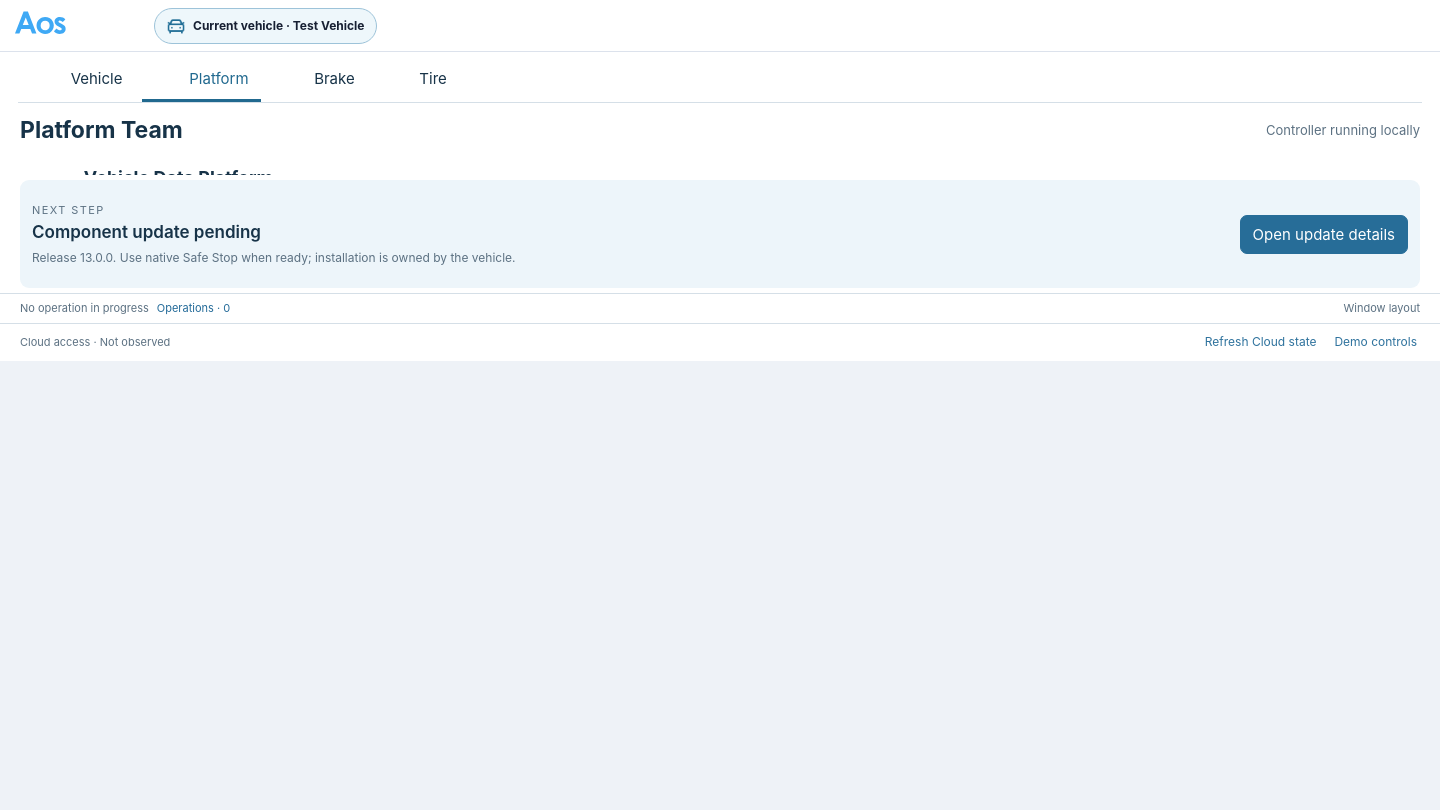
Scenario: a pending VDP on Platform opens update details, never navigates back to Platform
Step 1. Click the button "Open update details" → {"x": 1324, "y": 234}, box x1=1240 y1=215 x2=1408 y2=254
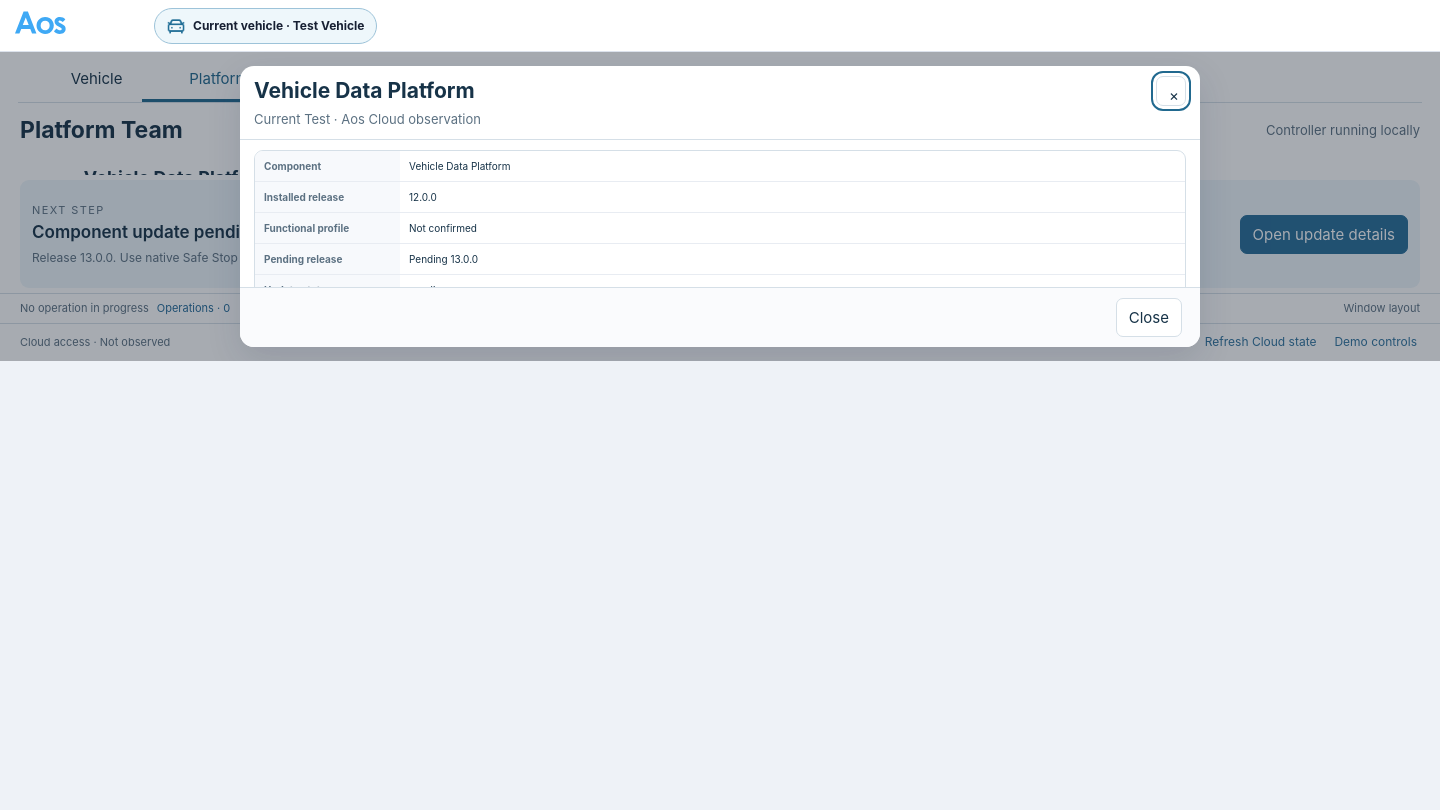
Expected: the dialog shows "13.0.0", x1=409 y1=253 x2=478 y2=265
